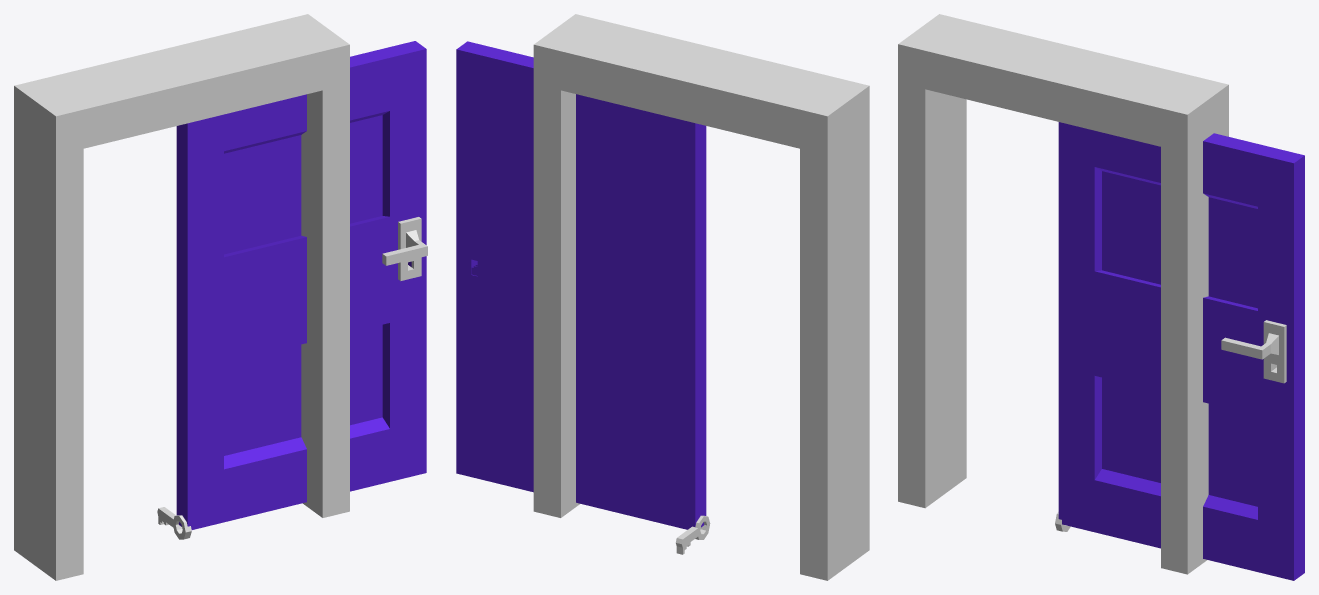
File: porta.fbx
The picture shows the model from 3 angles, left to right: view 1: azimuth 30°, elevation 25°; view 2: azimuth 150°, elevation 25°; view 3: azimuth 330°, elevation 25°; orthographic projection.
Visible parts, largest first — view 1: Cube.002, Cube.012, Cube.001, Cylinder.003; view 2: Cube.002, Cube.012, Cylinder.003; view 3: Cube.002, Cube.012, Cube.001.
Part boxes in pixels (bbox=[...]): Cube.002: bbox=[176, 41, 426, 529]; Cube.012: bbox=[14, 14, 349, 580]; Cube.001: bbox=[382, 217, 427, 280]; Cylinder.003: bbox=[157, 507, 191, 539]; Cube.002: bbox=[456, 41, 706, 529]; Cube.012: bbox=[533, 14, 869, 580]; Cylinder.003: bbox=[675, 515, 710, 554]; Cube.002: bbox=[1058, 122, 1304, 580]; Cube.012: bbox=[898, 14, 1228, 574]; Cube.001: bbox=[1221, 320, 1286, 383].
Size of the model in its own units: 2728 by 3200 by 540.
